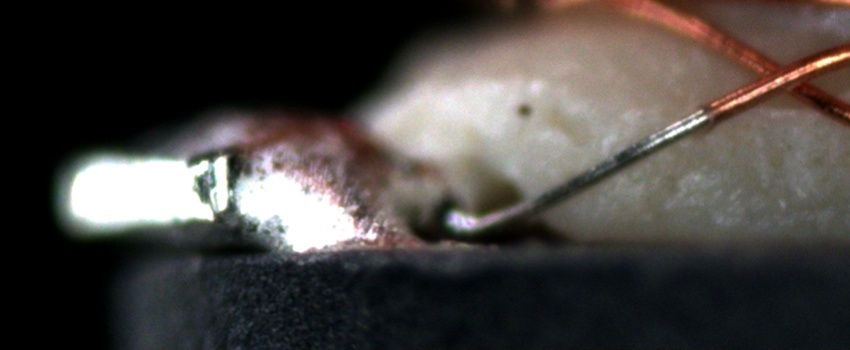CL: (734, 44, 828, 106)
TS: (447, 107, 713, 234)
